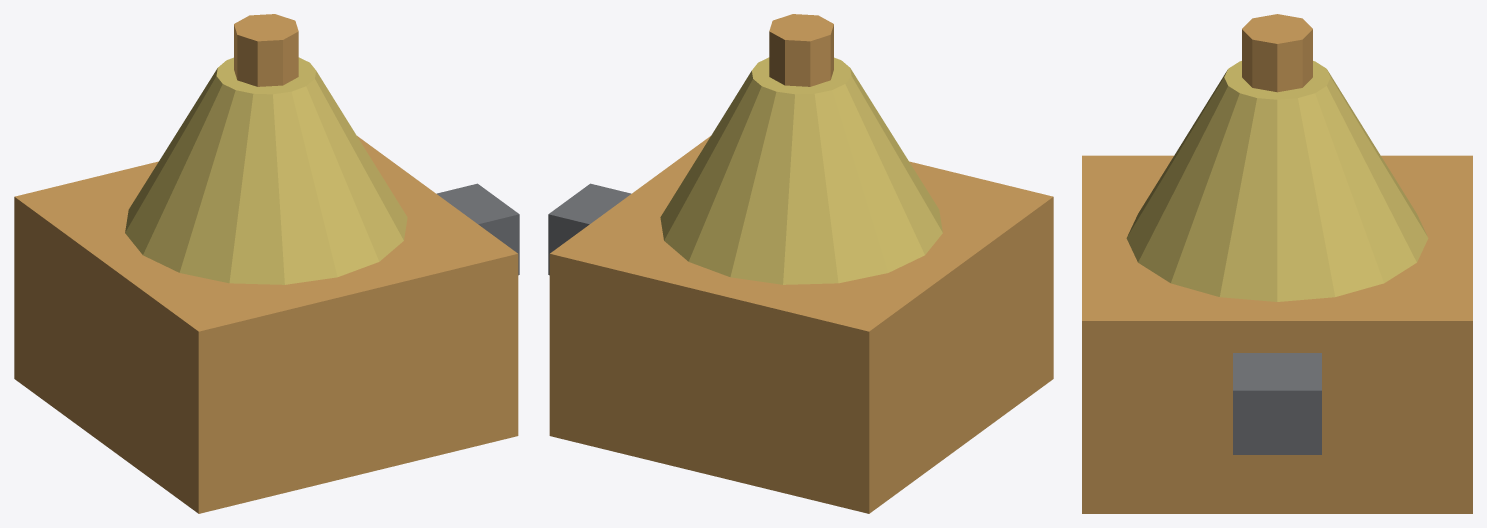
File: eld_espremedor.glb
3 renders of one model, left to right at view 1: azimuth 30°, elevation 25°; view 2: azimuth 150°, elevation 25°; view 3: azimuth 270°, elevation 25°, orthographic. The views are drawn at different scales.
Parts seen in each view (by area): view 1: ELD_ESPREMEDOR_v01; view 2: ELD_ESPREMEDOR_v01; view 3: ELD_ESPREMEDOR_v01.
Part boxes in pixels (<box>): ELD_ESPREMEDOR_v01: <box>14,14,519,513</box>; ELD_ESPREMEDOR_v01: <box>548,14,1053,513</box>; ELD_ESPREMEDOR_v01: <box>1082,14,1472,513</box>.
Size of the model in its own units: 0.27 by 0.25 by 0.22.
